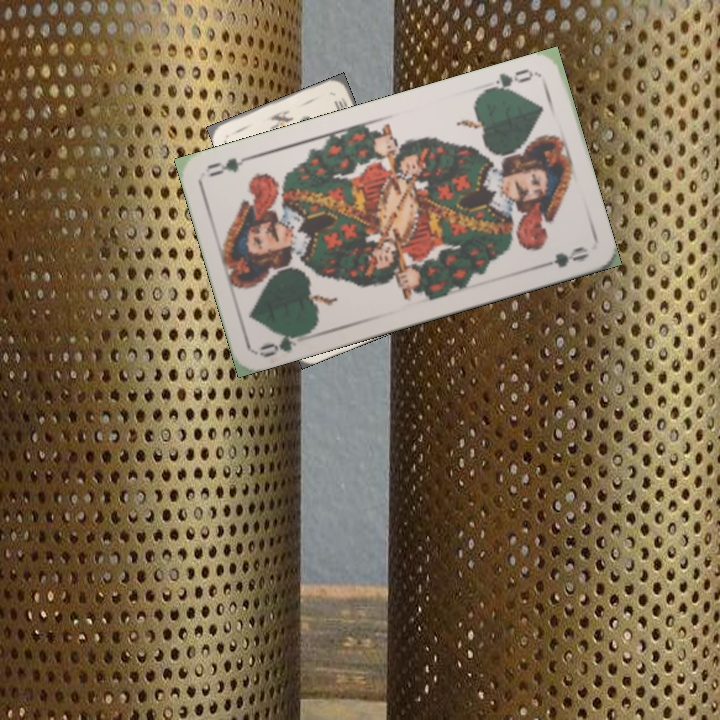GO: (255, 328, 312, 361), (481, 64, 539, 95)
